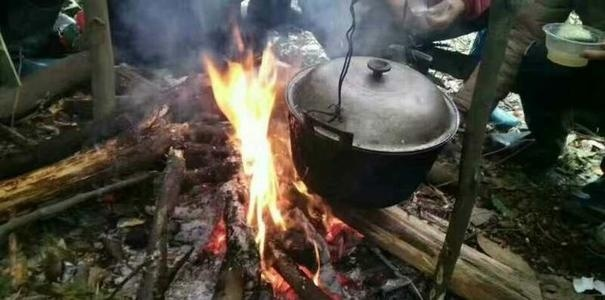fire: (201, 31, 295, 250)
